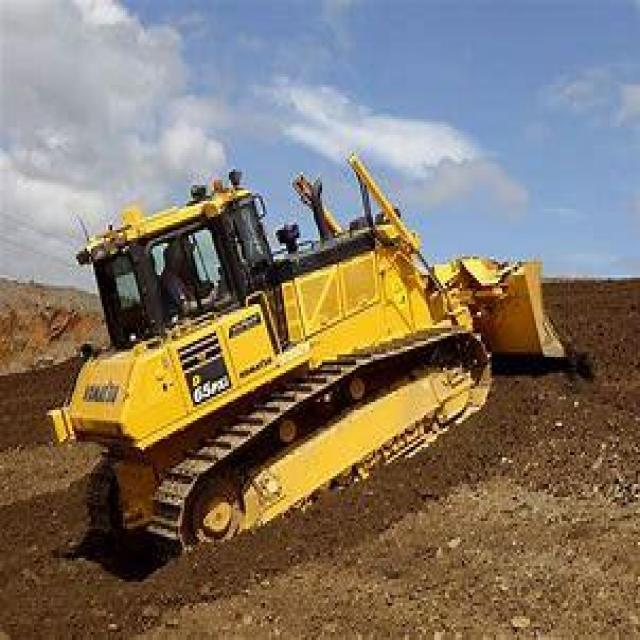Bulldozer: (68, 140, 591, 558)
